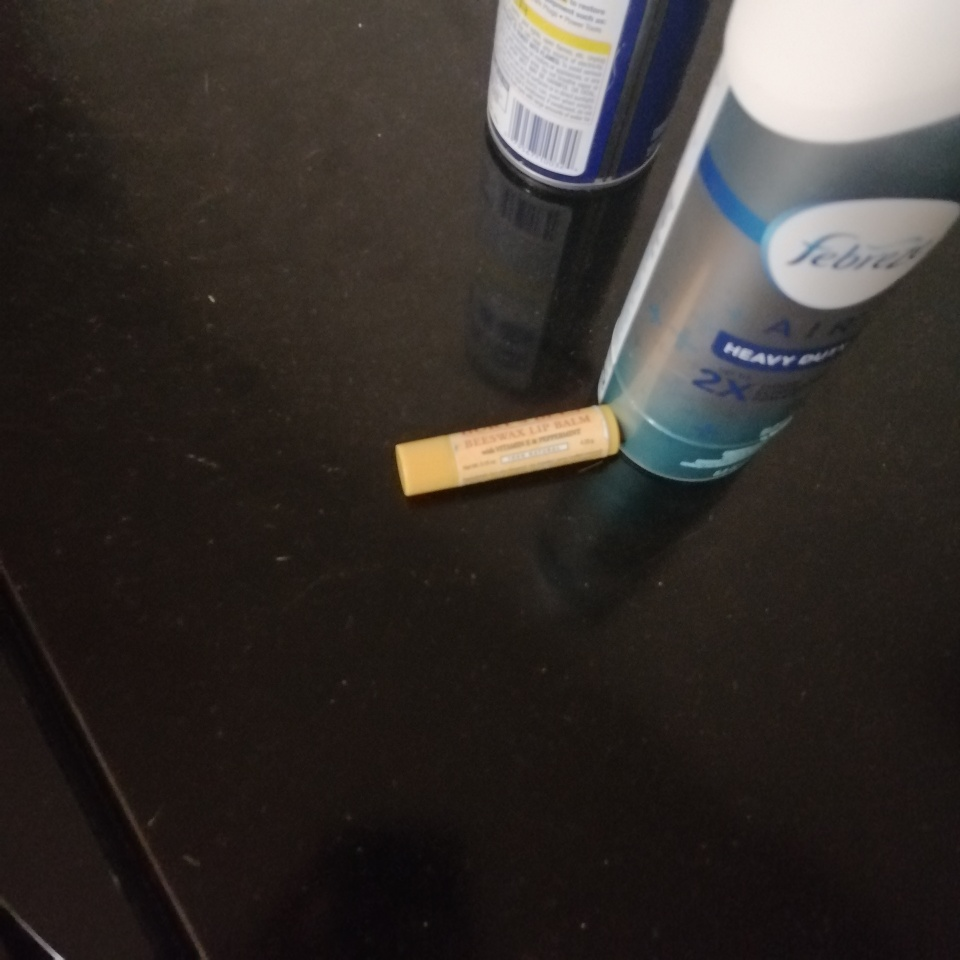chapstick: (395, 403, 622, 499)
